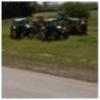tractors: (38, 18, 72, 43), (9, 19, 37, 40)
